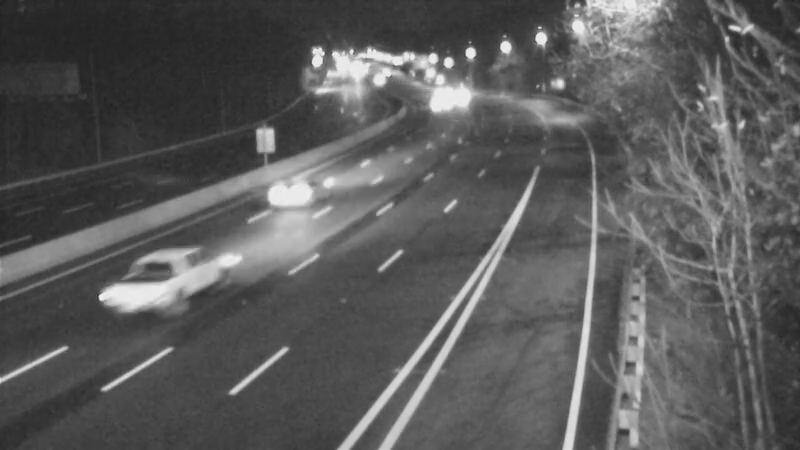vehicle: (252, 154, 332, 234), (114, 245, 194, 325), (418, 78, 468, 128)
